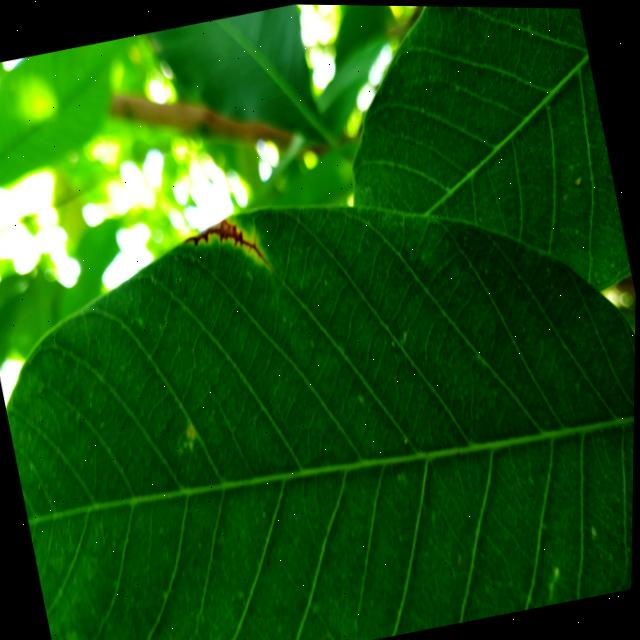Corynespora: (180, 209, 274, 282)
